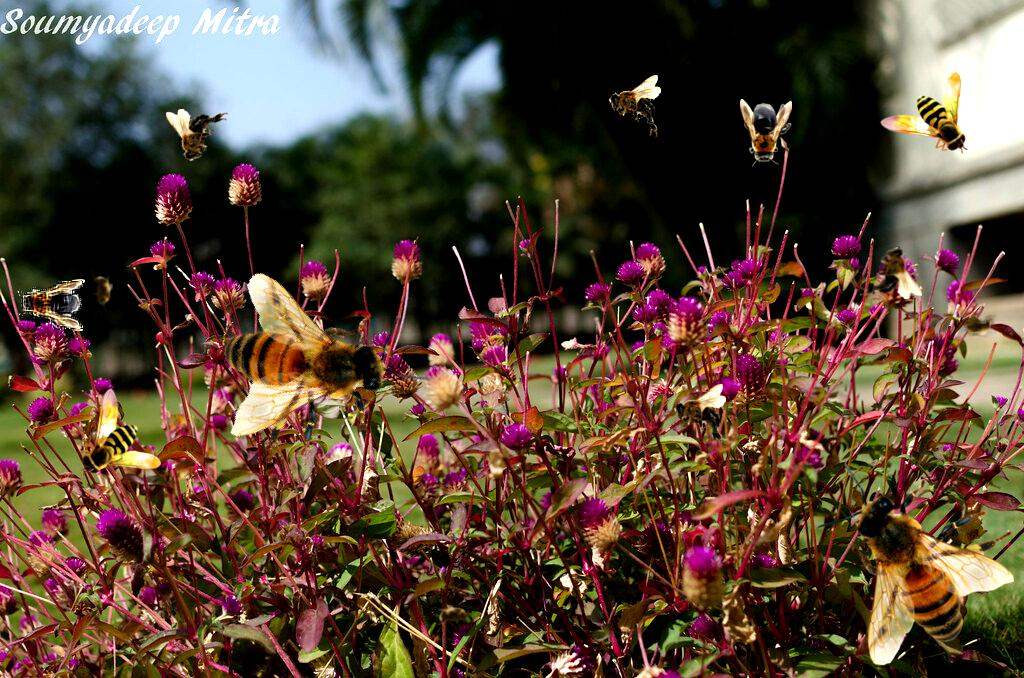Bee: (165, 226, 450, 510), (815, 462, 1014, 666), (79, 388, 161, 476), (880, 72, 968, 154), (17, 279, 85, 331), (740, 99, 792, 167), (673, 384, 726, 446), (860, 246, 922, 299), (166, 109, 228, 162), (608, 75, 661, 137), (957, 313, 999, 339), (91, 271, 113, 311), (434, 605, 474, 627)
